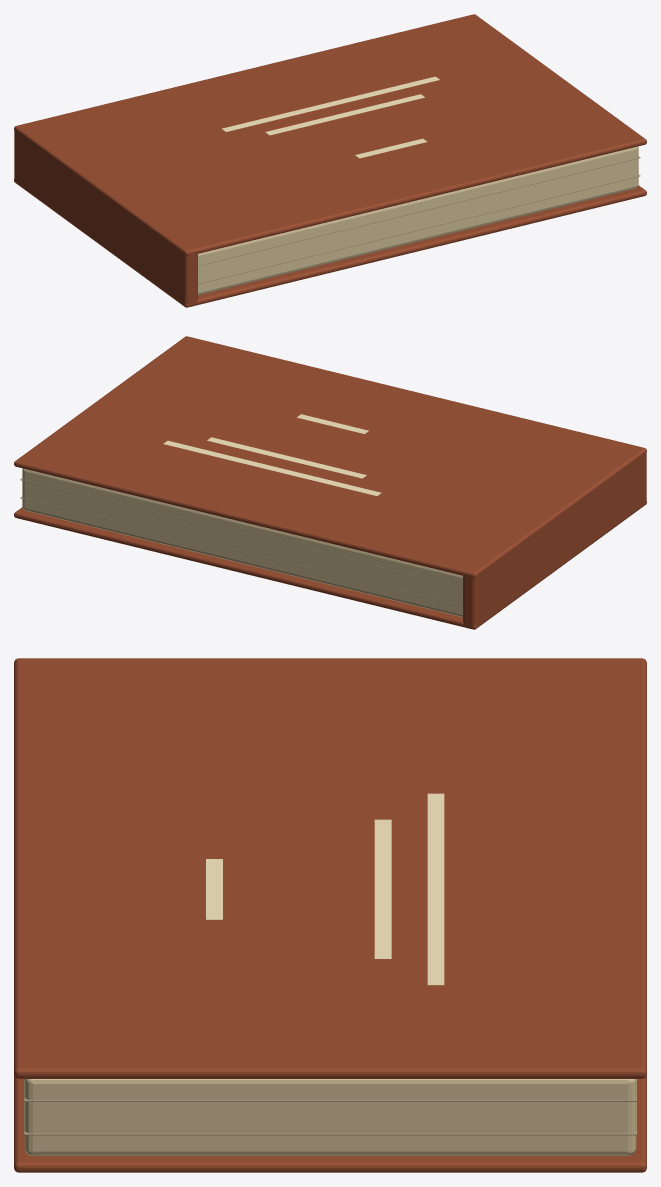
Rendered from pocketbookLarge.glb.
3 renders of one model, top to bottom at view 1: azimuth 30°, elevation 25°; view 2: azimuth 150°, elevation 25°; view 3: azimuth 270°, elevation 25°, orthographic. The views are drawn at different scales.
Parts seen in each view (by area): view 1: pocketbookLarge; view 2: pocketbookLarge; view 3: pocketbookLarge.
Part boxes in pixels (bbox=[...]): pocketbookLarge: bbox=[14, 14, 646, 307]; pocketbookLarge: bbox=[14, 336, 646, 629]; pocketbookLarge: bbox=[14, 658, 646, 1172].
Size of the model in its own units: 0.17 by 0.02 by 0.11.
